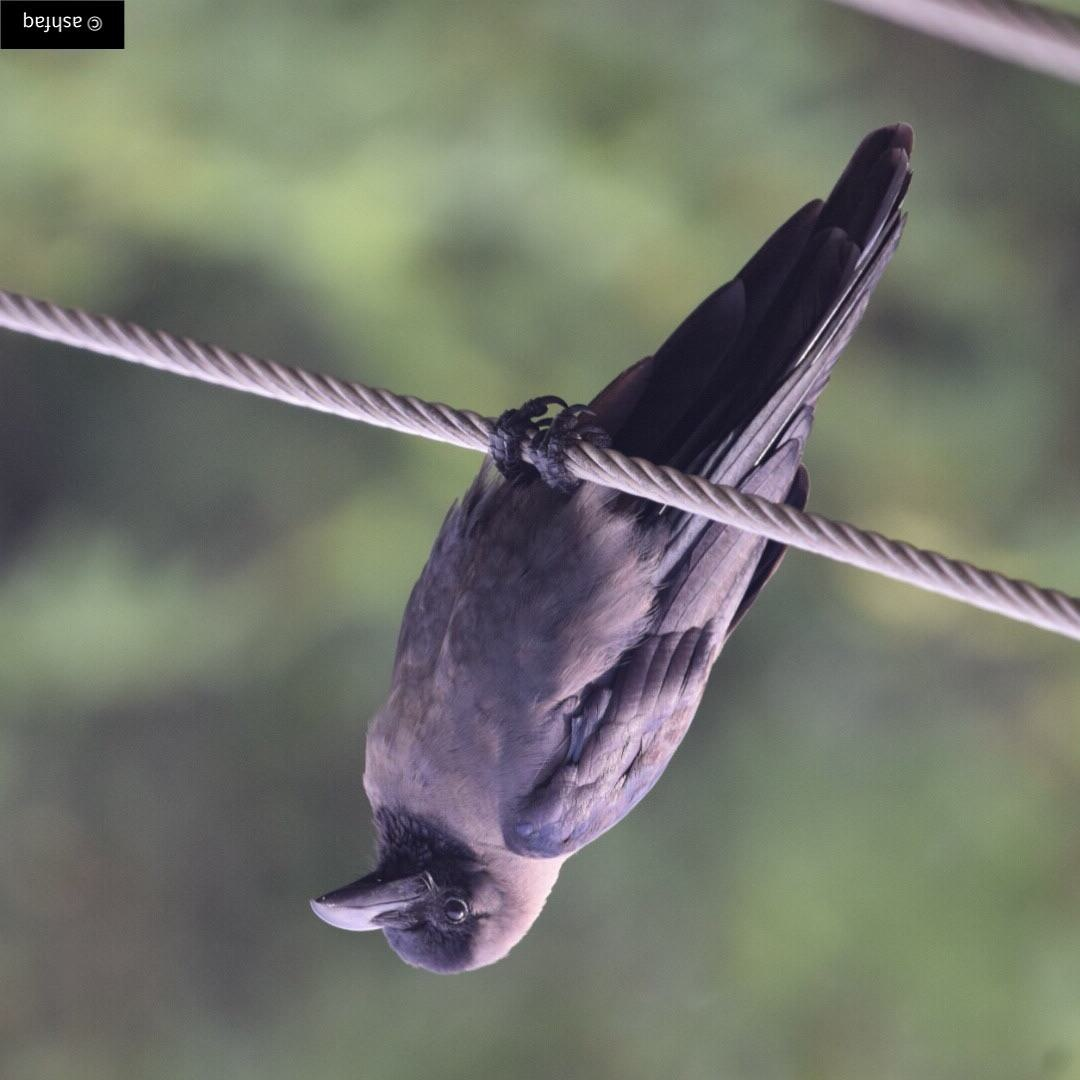crow: (305, 127, 960, 966)
